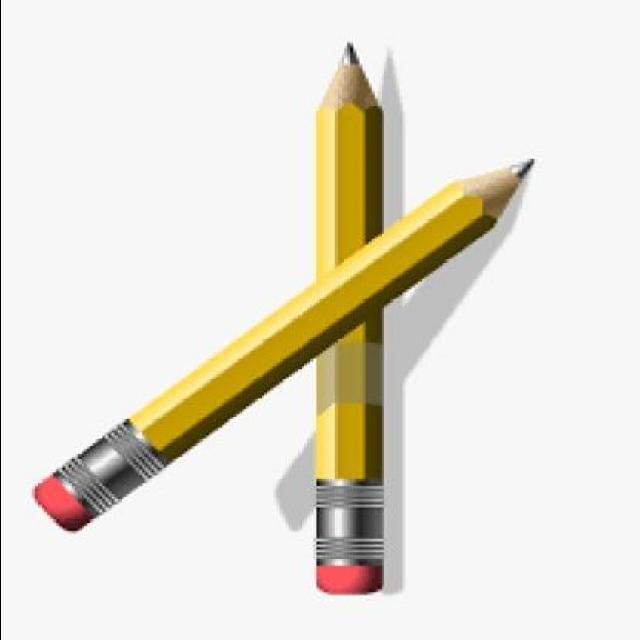pencil: (428, 144, 552, 248), (304, 30, 408, 134)
